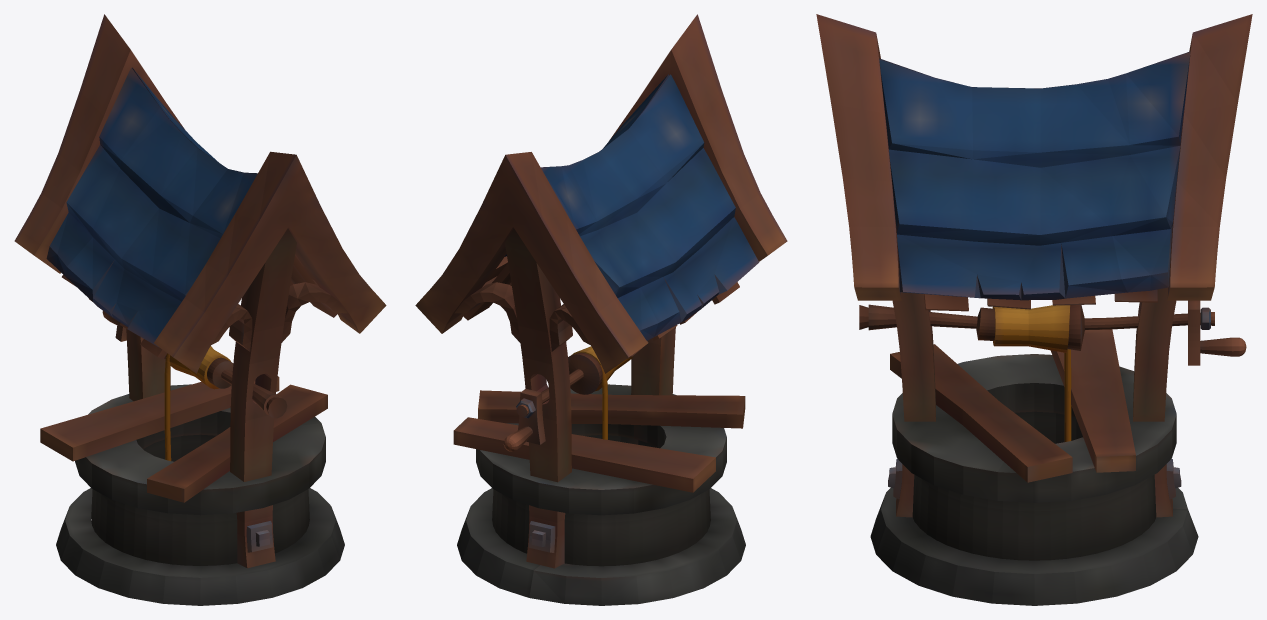
File: segmented_mesh_20260228_071303_mesh.glb
3 renders of one model, left to right at view 1: azimuth 30°, elevation 25°; view 2: azimuth 150°, elevation 25°; view 3: azimuth 270°, elevation 25°, orthographic. The views are drawn at different scales.
Parts seen in each view (by area): view 1: world; view 2: world; view 3: world.
Part boxes in pixels (left/top/right/bottom): world: left=14, top=14, right=386, bottom=605; world: left=415, top=14, right=787, bottom=605; world: left=816, top=14, right=1252, bottom=605.
Size of the model in its own units: 0.5691 by 1 by 0.7543.
Materials: 1 (1 with a texture image).
